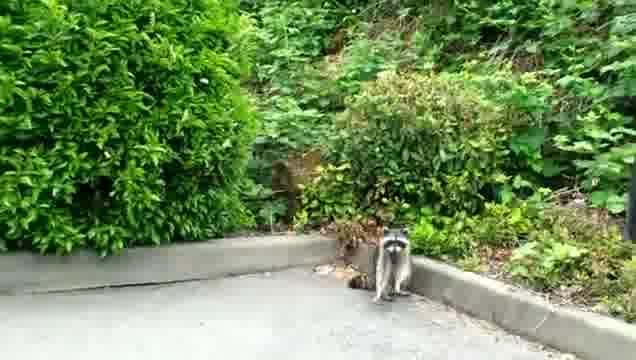raccoon: (343, 225, 429, 303)
